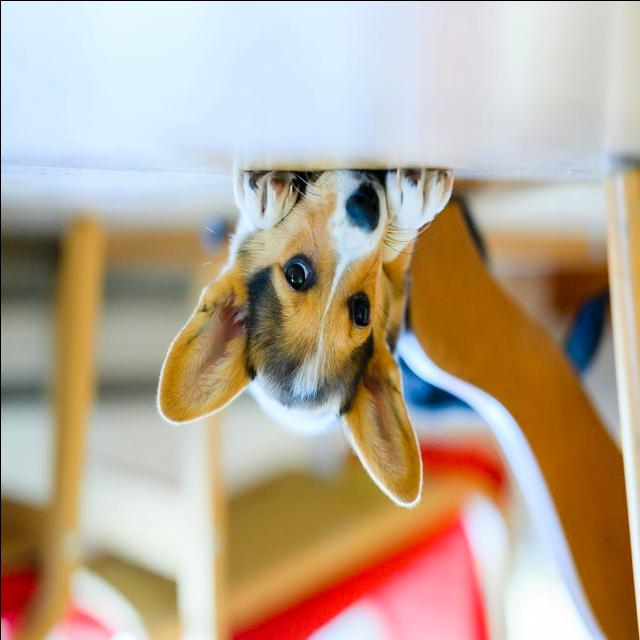corgi: (155, 166, 456, 510)
